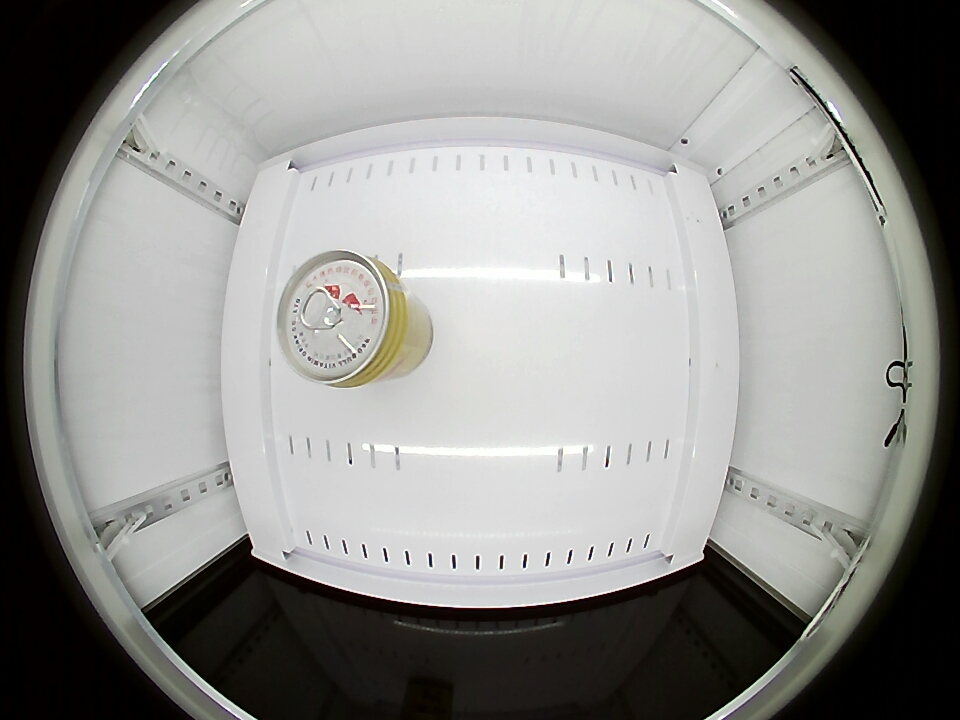hongniu2: (277, 249, 416, 388)
